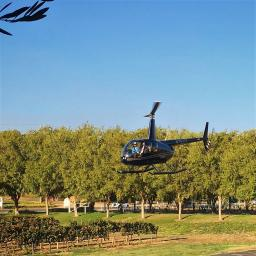helicopter: (110, 102, 219, 180)
